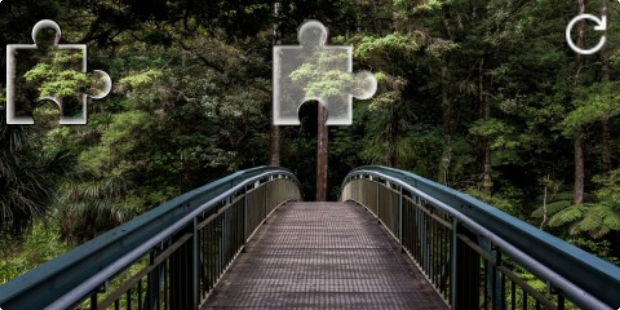target: (272, 19, 378, 123)
